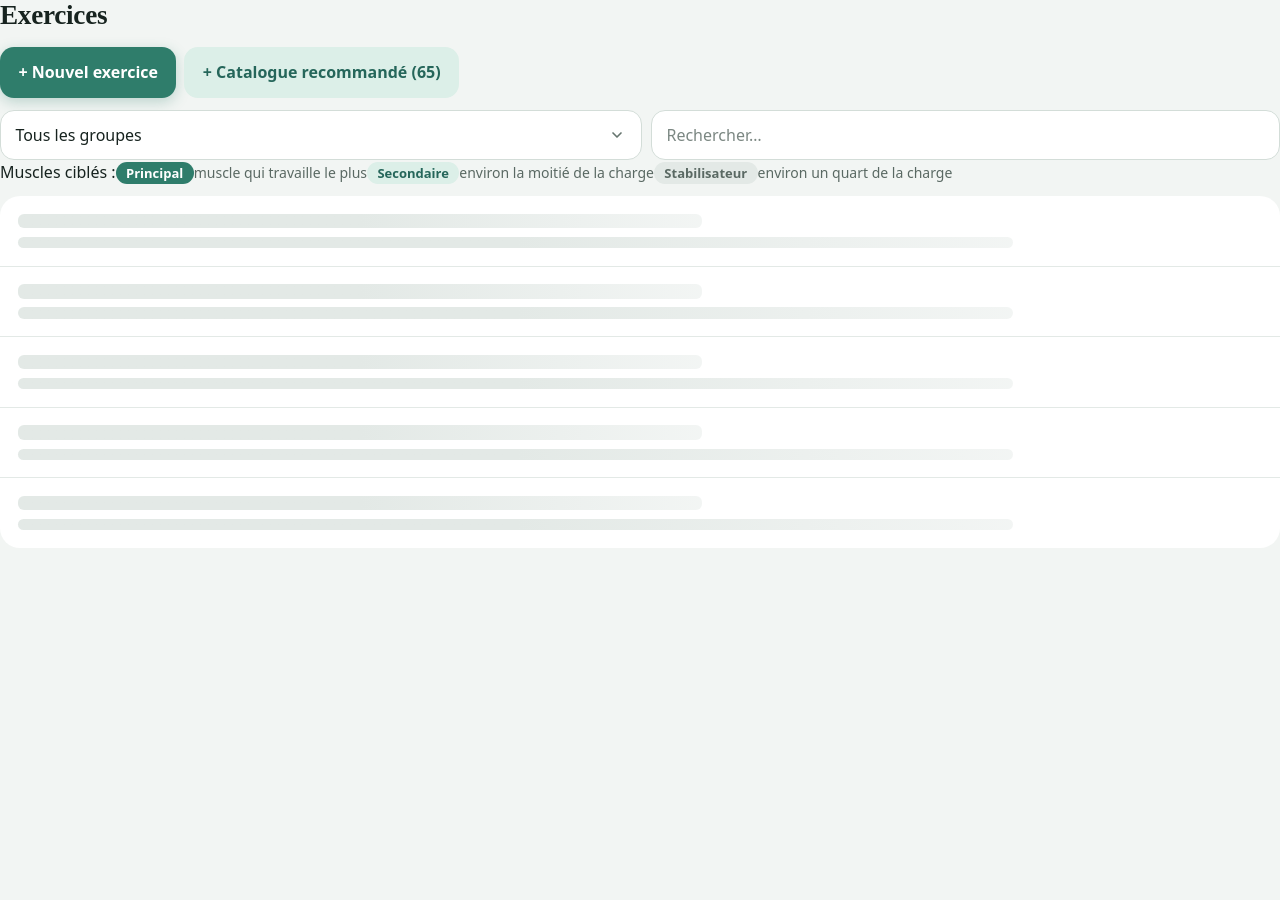
Scenario: [REG-02] Bibliotheque.tsx - Modale catalogue et échec partiel › affiche le MessageErreur à l’intérieur de la modale en cas d’erreur d’import
# Attendre le chargement initial
Click the button "+ Catalogue recommandé (65)": [322, 72] box [184,47,459,98]
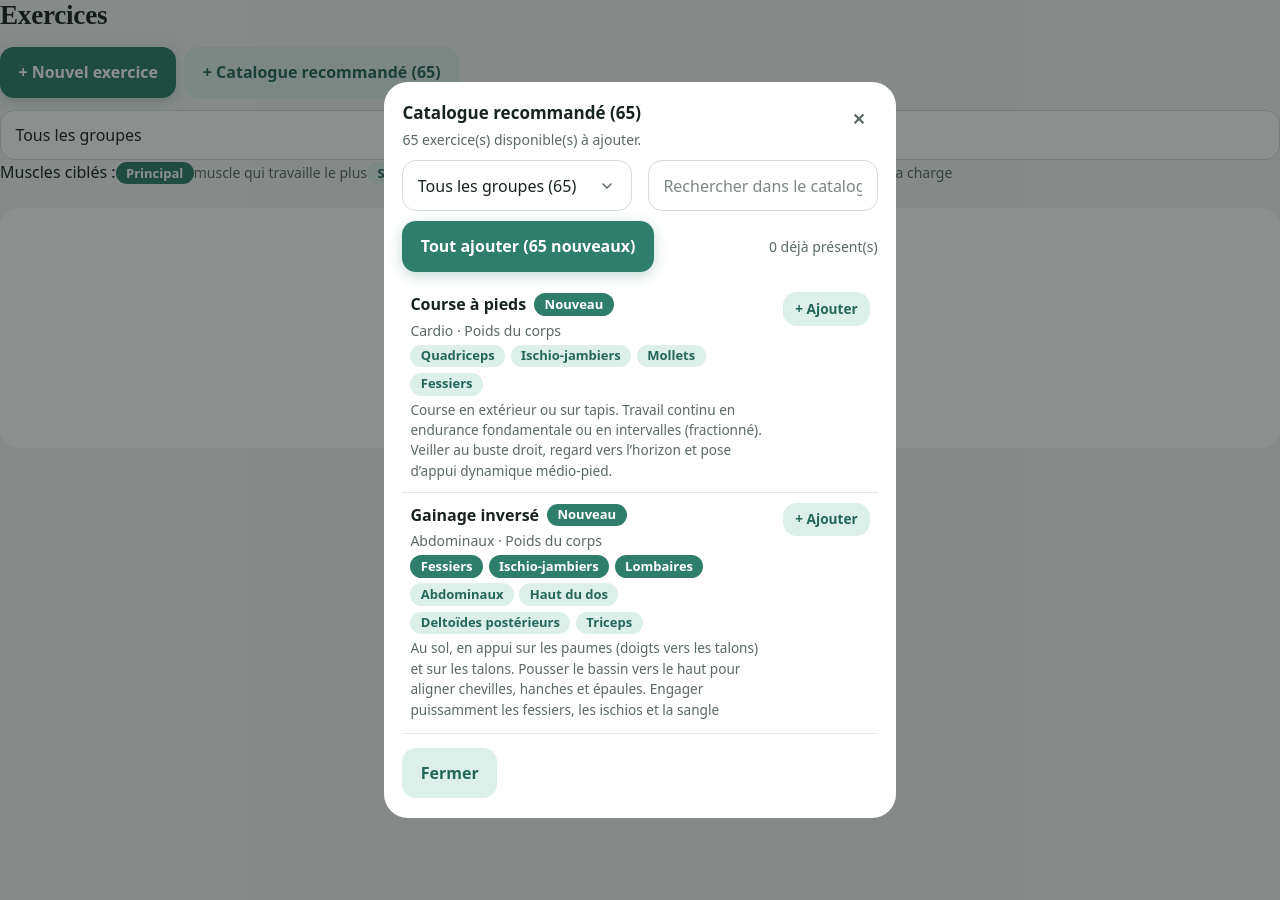
Now the dialog is shown, box [384,82,896,818]
# Cliquer sur "+ Ajouter" pour le premier exercice visible
Click the button "+ Ajouter" in the row of "Course à pieds": [826, 309] box [783,292,870,326]
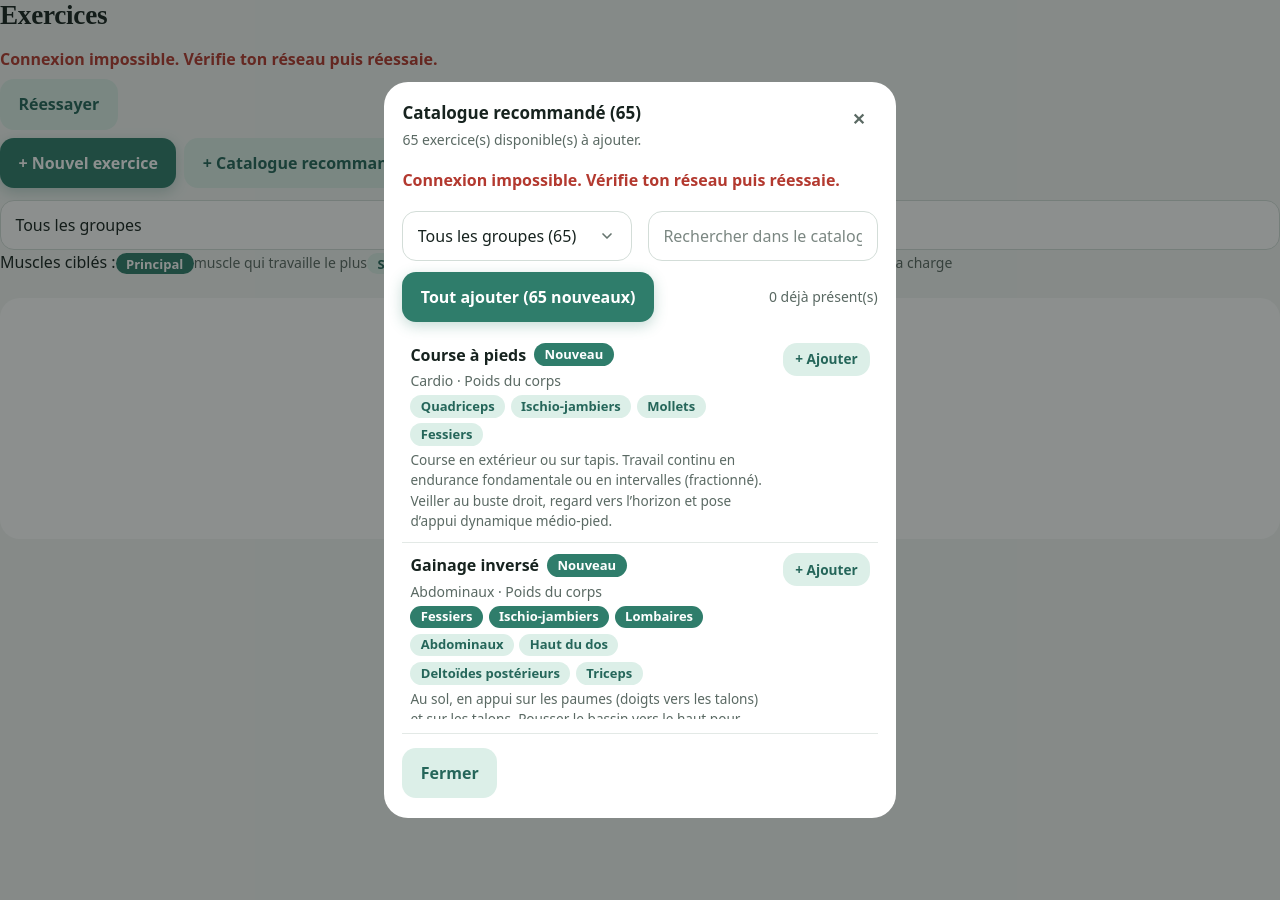
Now the message "Connexion impossible. Vérifie ton réseau puis réessaie." is shown, box [402,168,878,192]
